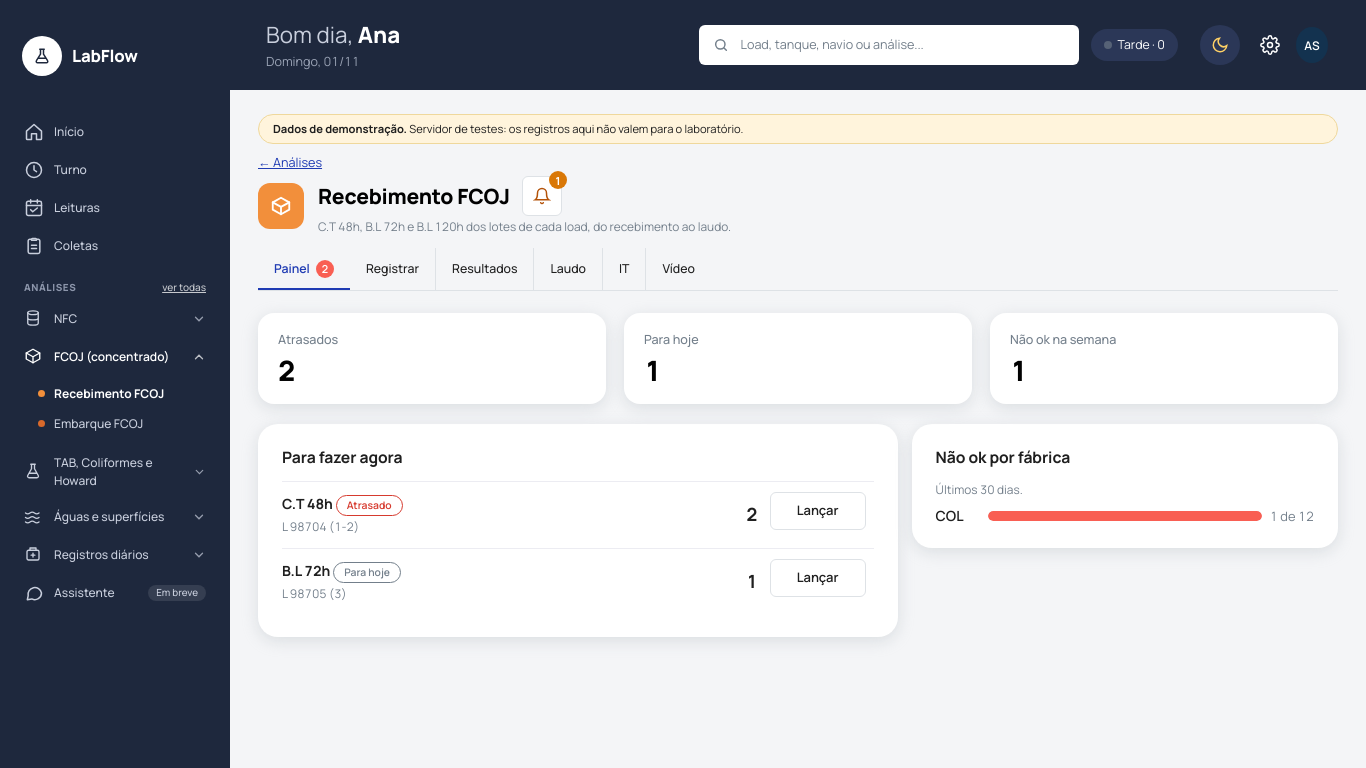
Test: Recebimento FCOJ como app (Fase E, E2) › o Analista dispensa o aviso de amostra pulada, com o motivo
Click the button named "Em observação" at (542, 196), box [522, 176, 562, 216]
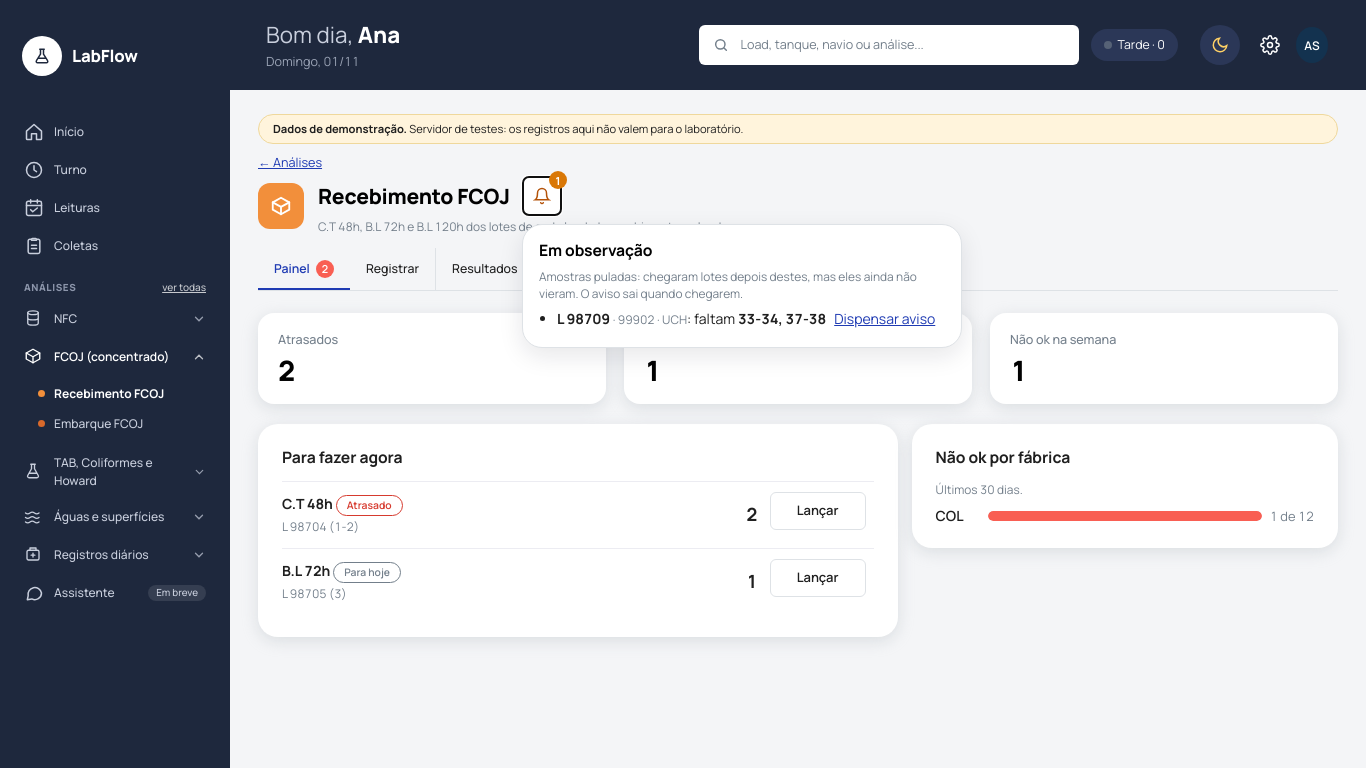
Click the button "Dispensar aviso" at (885, 319), box [834, 309, 935, 329]
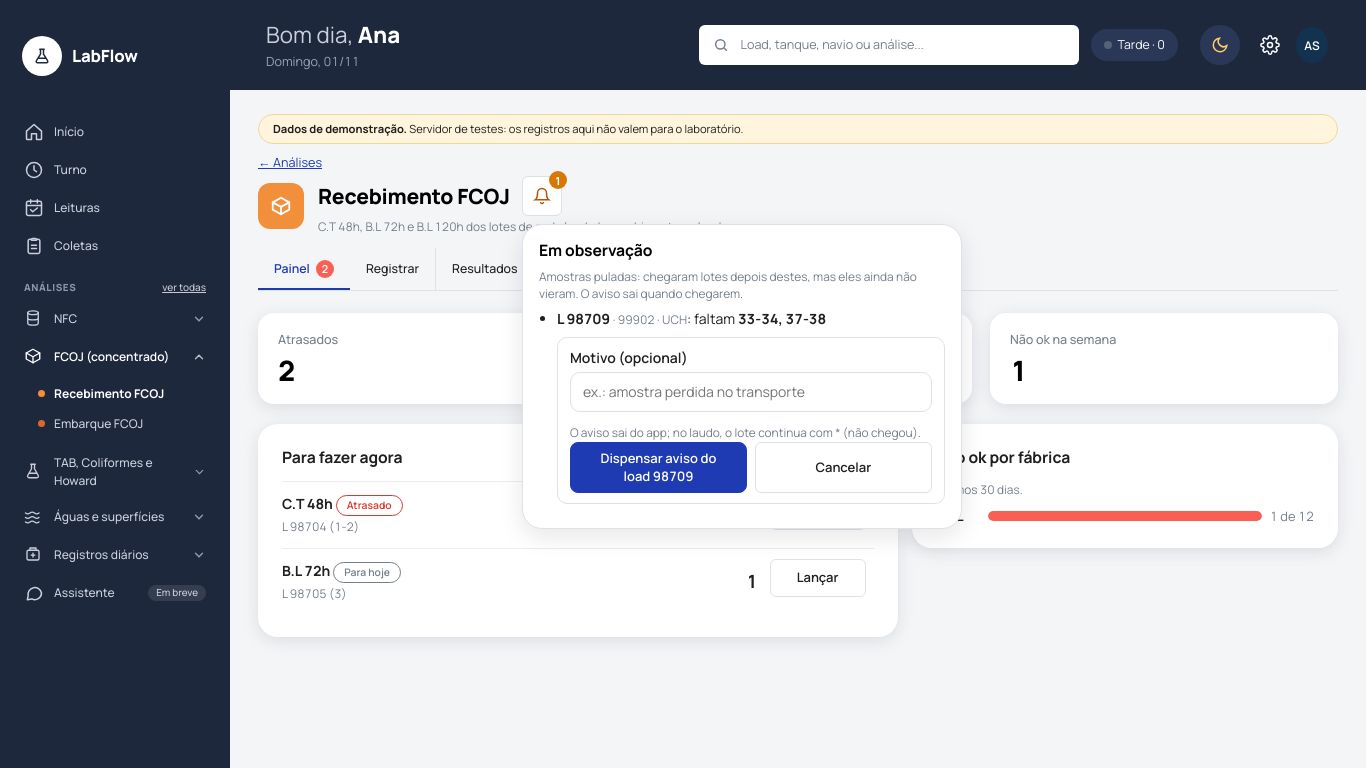
Type "amostra perdida" into the field labelled "Motivo (opcional)" at (751, 392), box [570, 372, 932, 412]
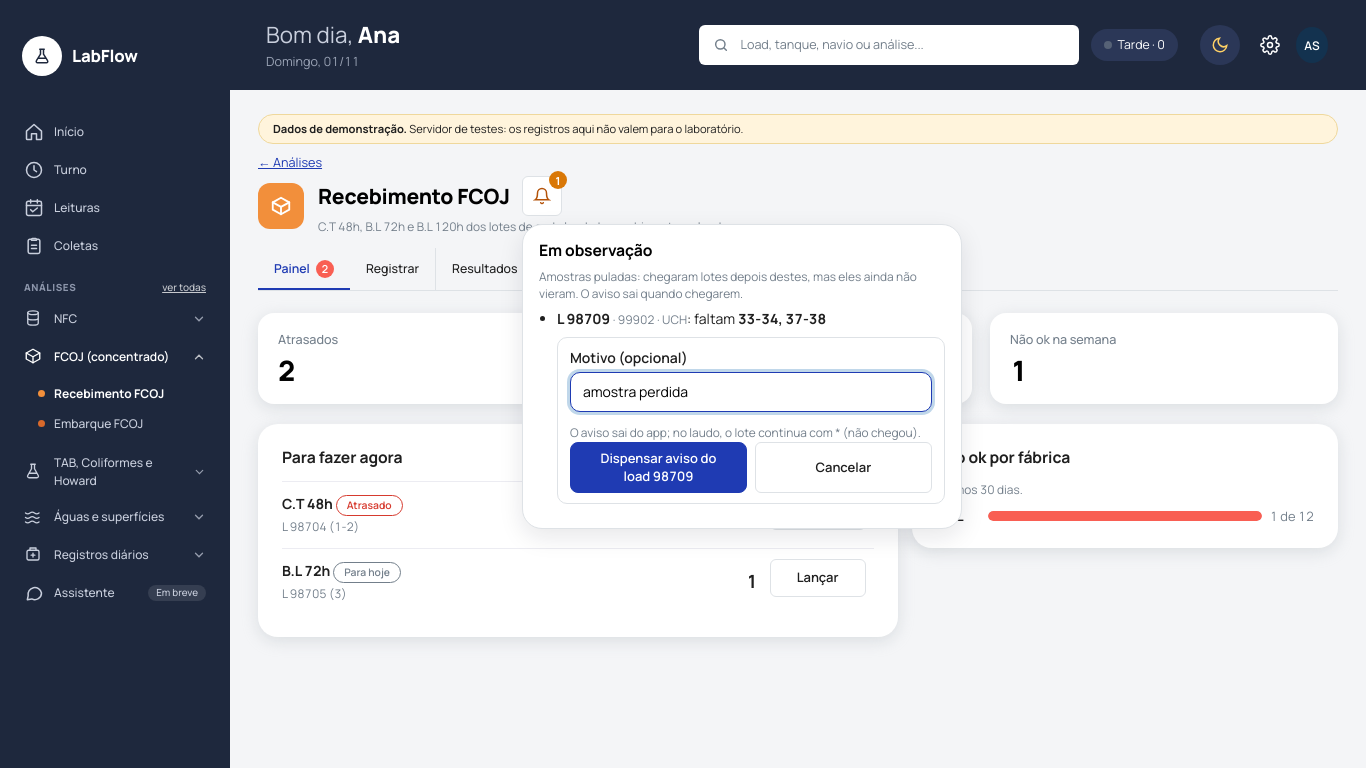
Click the button "Dispensar aviso do load 98709" at (658, 467), box [570, 442, 747, 493]
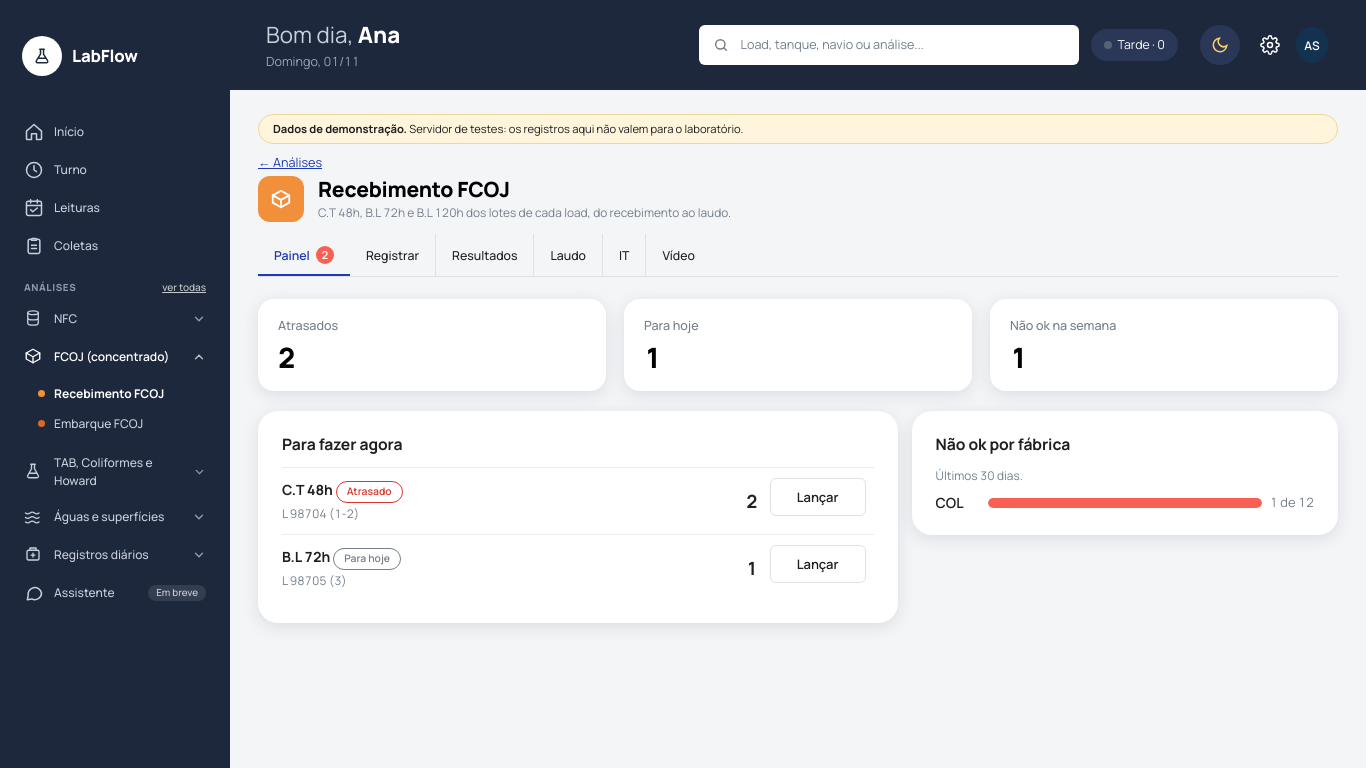
Expected: the heading "Para fazer agora" is shown, [282, 432, 402, 454]
Result: the text "Amostras puladas" is gone
